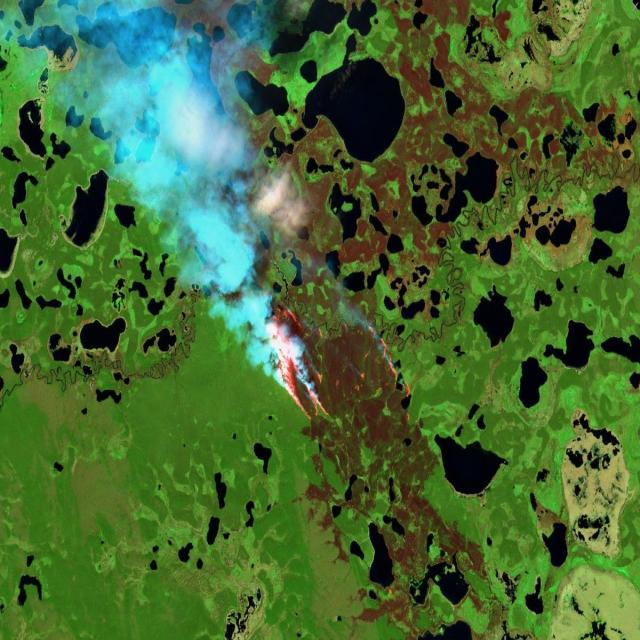fire: (264, 298, 426, 490), (383, 576, 397, 609)
